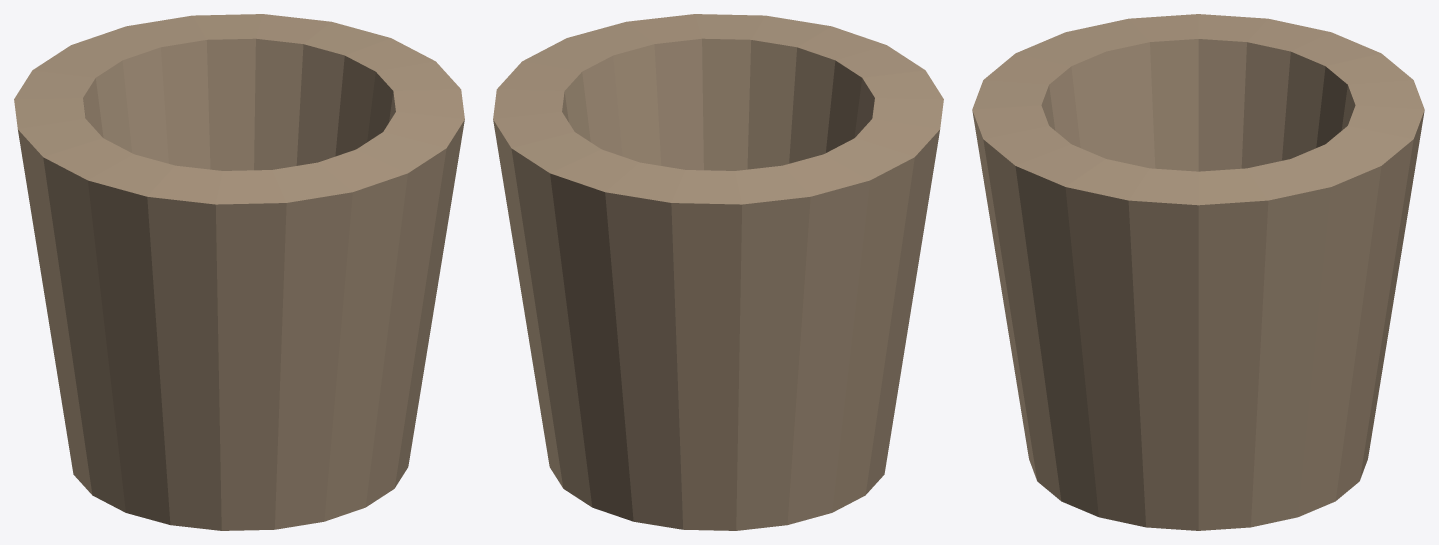
File: Tacho_blocking.fbx
3 renders of one model, left to right at view 1: azimuth 30°, elevation 25°; view 2: azimuth 150°, elevation 25°; view 3: azimuth 270°, elevation 25°, orthographic.
Parts seen in each view (by area): view 1: Tacho; view 2: Tacho; view 3: Tacho.
Boxes of the visible parts, x1=… form: Tacho: x1=14, y1=14, x2=464, y2=530; Tacho: x1=493, y1=14, x2=943, y2=530; Tacho: x1=972, y1=14, x2=1424, y2=530.
Size of the model in its own units: 1.53 by 1.32 by 1.53.
